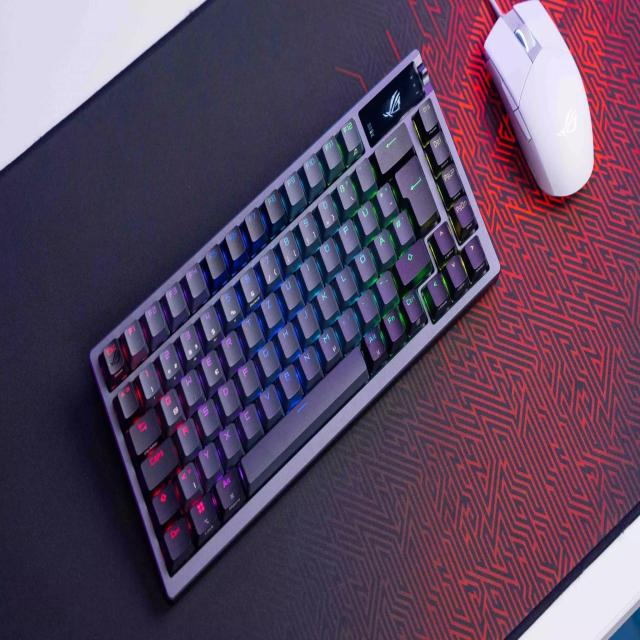0: (316, 189, 338, 229)
1: (137, 359, 161, 401)
2: (156, 337, 182, 381)
3: (177, 321, 202, 361)
4: (198, 301, 222, 343)
5: (216, 282, 242, 323)
6: (238, 262, 262, 305)
7: (258, 244, 281, 285)
8: (277, 227, 301, 267)
9: (296, 208, 320, 247)
a: (176, 417, 200, 456)
accent: (353, 155, 376, 193)
ae: (372, 228, 396, 264)
alt-left: (213, 469, 246, 511)
altgr-right: (362, 327, 387, 361)
b: (276, 364, 304, 402)
c: (236, 403, 263, 440)
caret: (117, 381, 139, 419)
comma: (335, 308, 360, 344)
d: (216, 379, 241, 417)
del: (373, 118, 413, 173)
e: (199, 348, 225, 388)
enter: (394, 153, 440, 226)
f: (236, 359, 261, 398)
g: (256, 339, 280, 378)
h: (277, 323, 302, 360)
hash: (389, 209, 415, 245)
i: (297, 254, 323, 293)
j: (295, 303, 320, 340)
k: (314, 283, 339, 320)
keyboard: (84, 40, 503, 610)
l: (334, 264, 358, 302)
less: (176, 462, 202, 500)
m: (316, 327, 342, 362)
minus: (373, 269, 399, 307)
n: (295, 345, 323, 383)
o: (317, 236, 342, 274)
oe: (353, 246, 377, 284)
p: (335, 218, 360, 255)
plus: (373, 182, 398, 220)
point: (354, 288, 380, 326)
q: (159, 388, 185, 427)
r: (219, 329, 245, 368)
s: (196, 397, 221, 437)
shift-left: (152, 482, 179, 524)
shift-lock: (139, 436, 178, 490)
shift-right: (393, 236, 434, 286)
space: (241, 344, 367, 490)
ss: (335, 171, 357, 211)
strg-left: (163, 517, 195, 561)
strg-right: (400, 290, 428, 326)
t: (239, 311, 264, 349)
tab: (129, 406, 161, 455)
u: (279, 273, 303, 311)
ue: (356, 200, 380, 236)
v: (256, 384, 283, 420)
w: (179, 367, 204, 407)
x: (217, 421, 243, 461)
y: (196, 442, 223, 481)
z: (259, 292, 284, 330)
